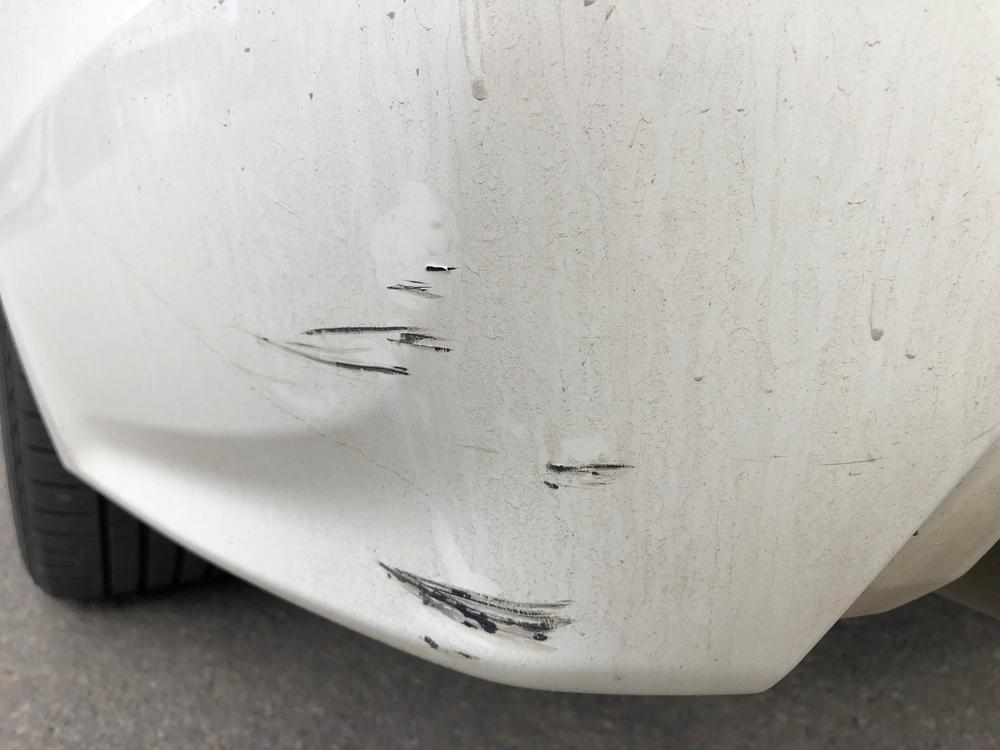scratch: (234, 252, 470, 400), (379, 554, 585, 669), (539, 454, 635, 504)
